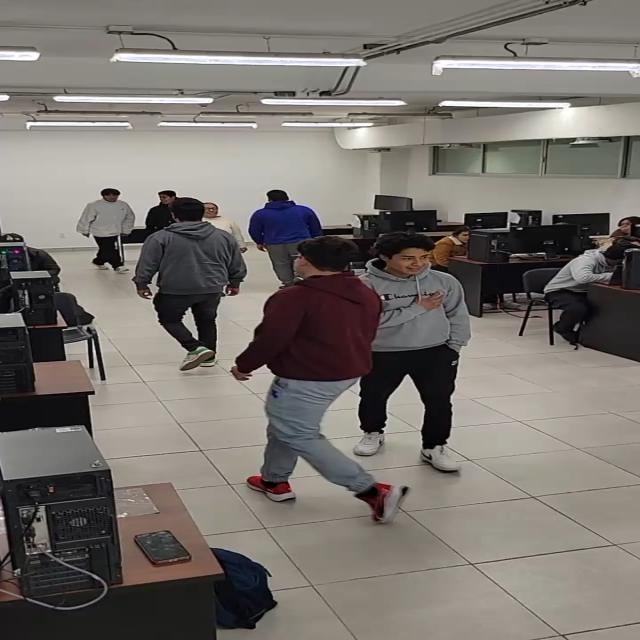Persona: (251, 236, 409, 519), (365, 235, 474, 464), (160, 199, 226, 374), (76, 190, 132, 276), (259, 188, 321, 248), (202, 195, 249, 251), (144, 186, 177, 237)
